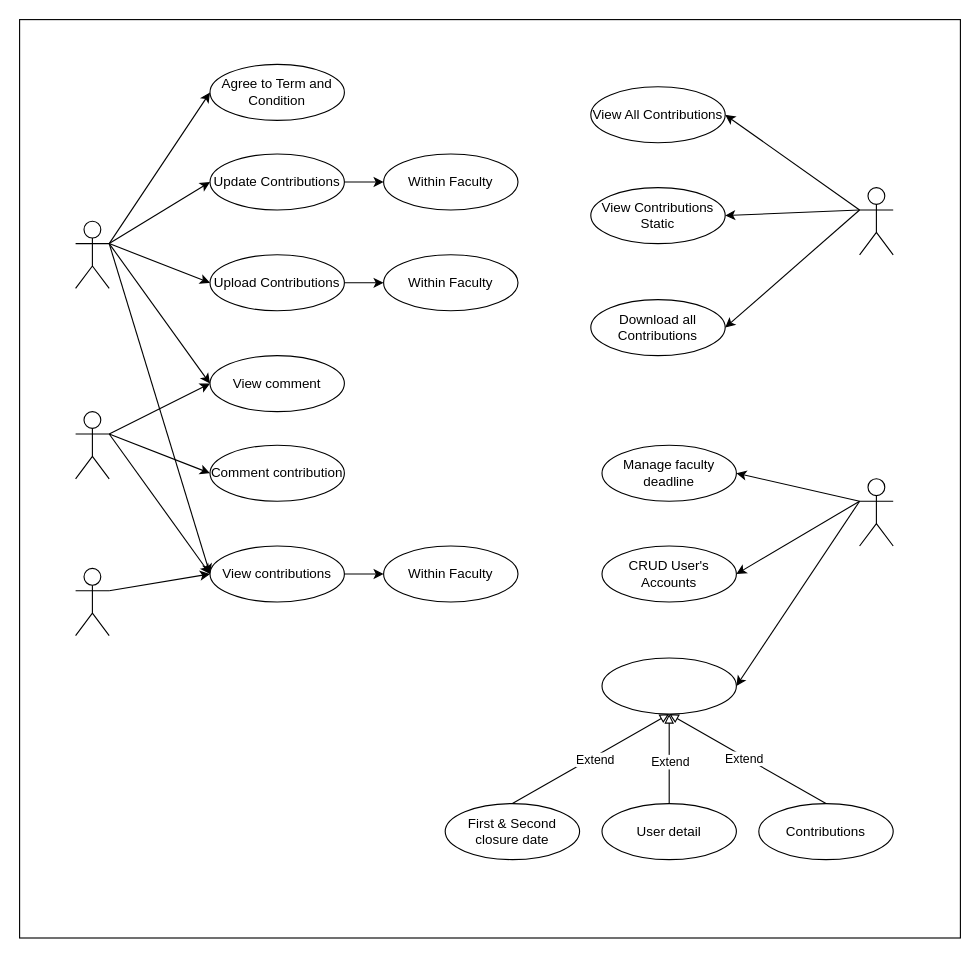
This 980x958 diagram has some shape labels left out. Each missing label, with the centre of its shape:
"Admin" belongs at (875,512).
"Guest" belongs at (91,601).
"Maintain System Data" belongs at (668,685).
"Marketing Coordinator" belongs at (91,444).
"Marketing Manager" belongs at (875,220).
"Student" belongs at (91,254).
